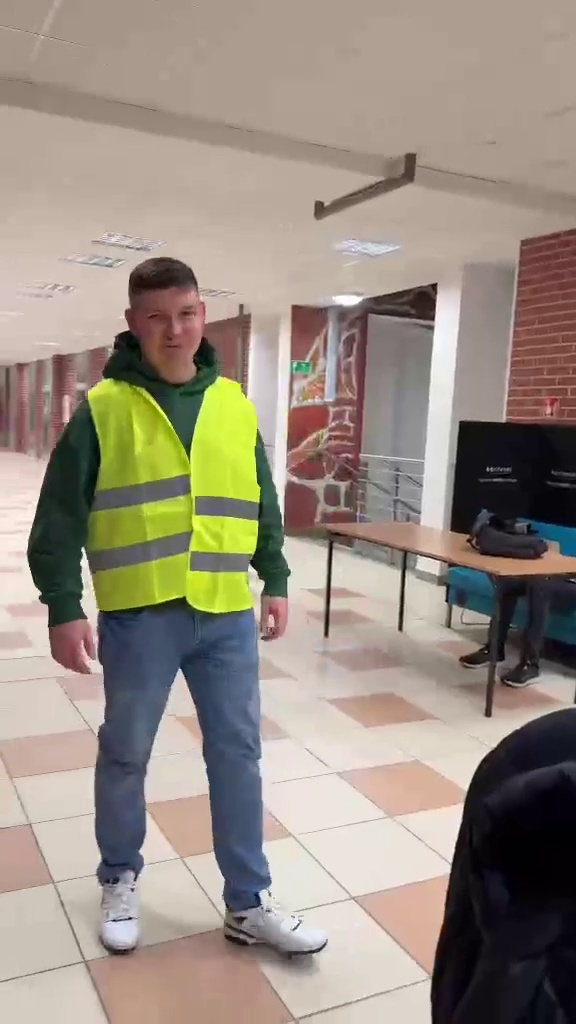vest: (27, 252, 326, 964)
